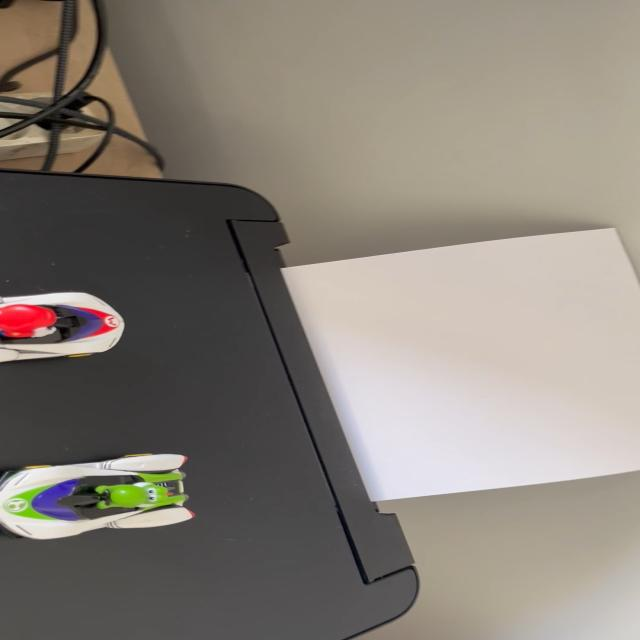mario: (0, 286, 142, 373)
yoshi: (2, 446, 212, 547)
